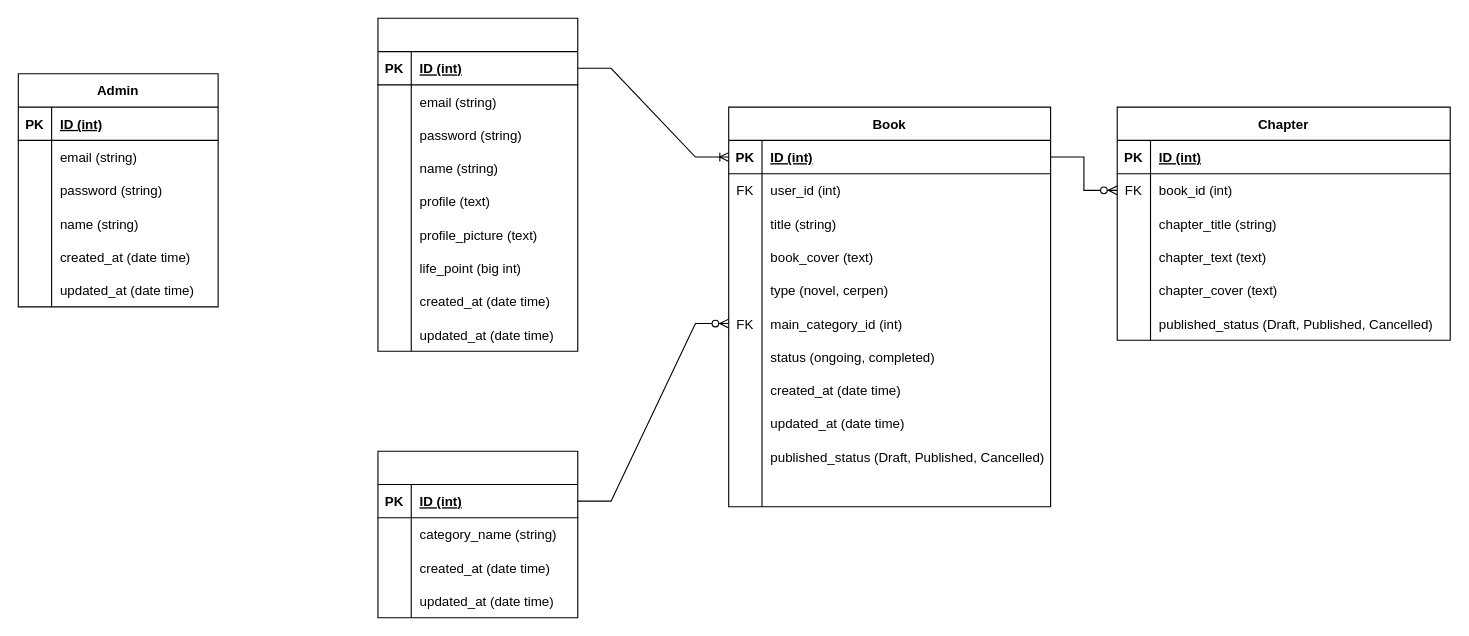
This 1469x636 diagram has some shape labels left out. Each missing label, with the box of its shape:
Categories: (377, 450, 578, 618)
User: (377, 17, 578, 351)
